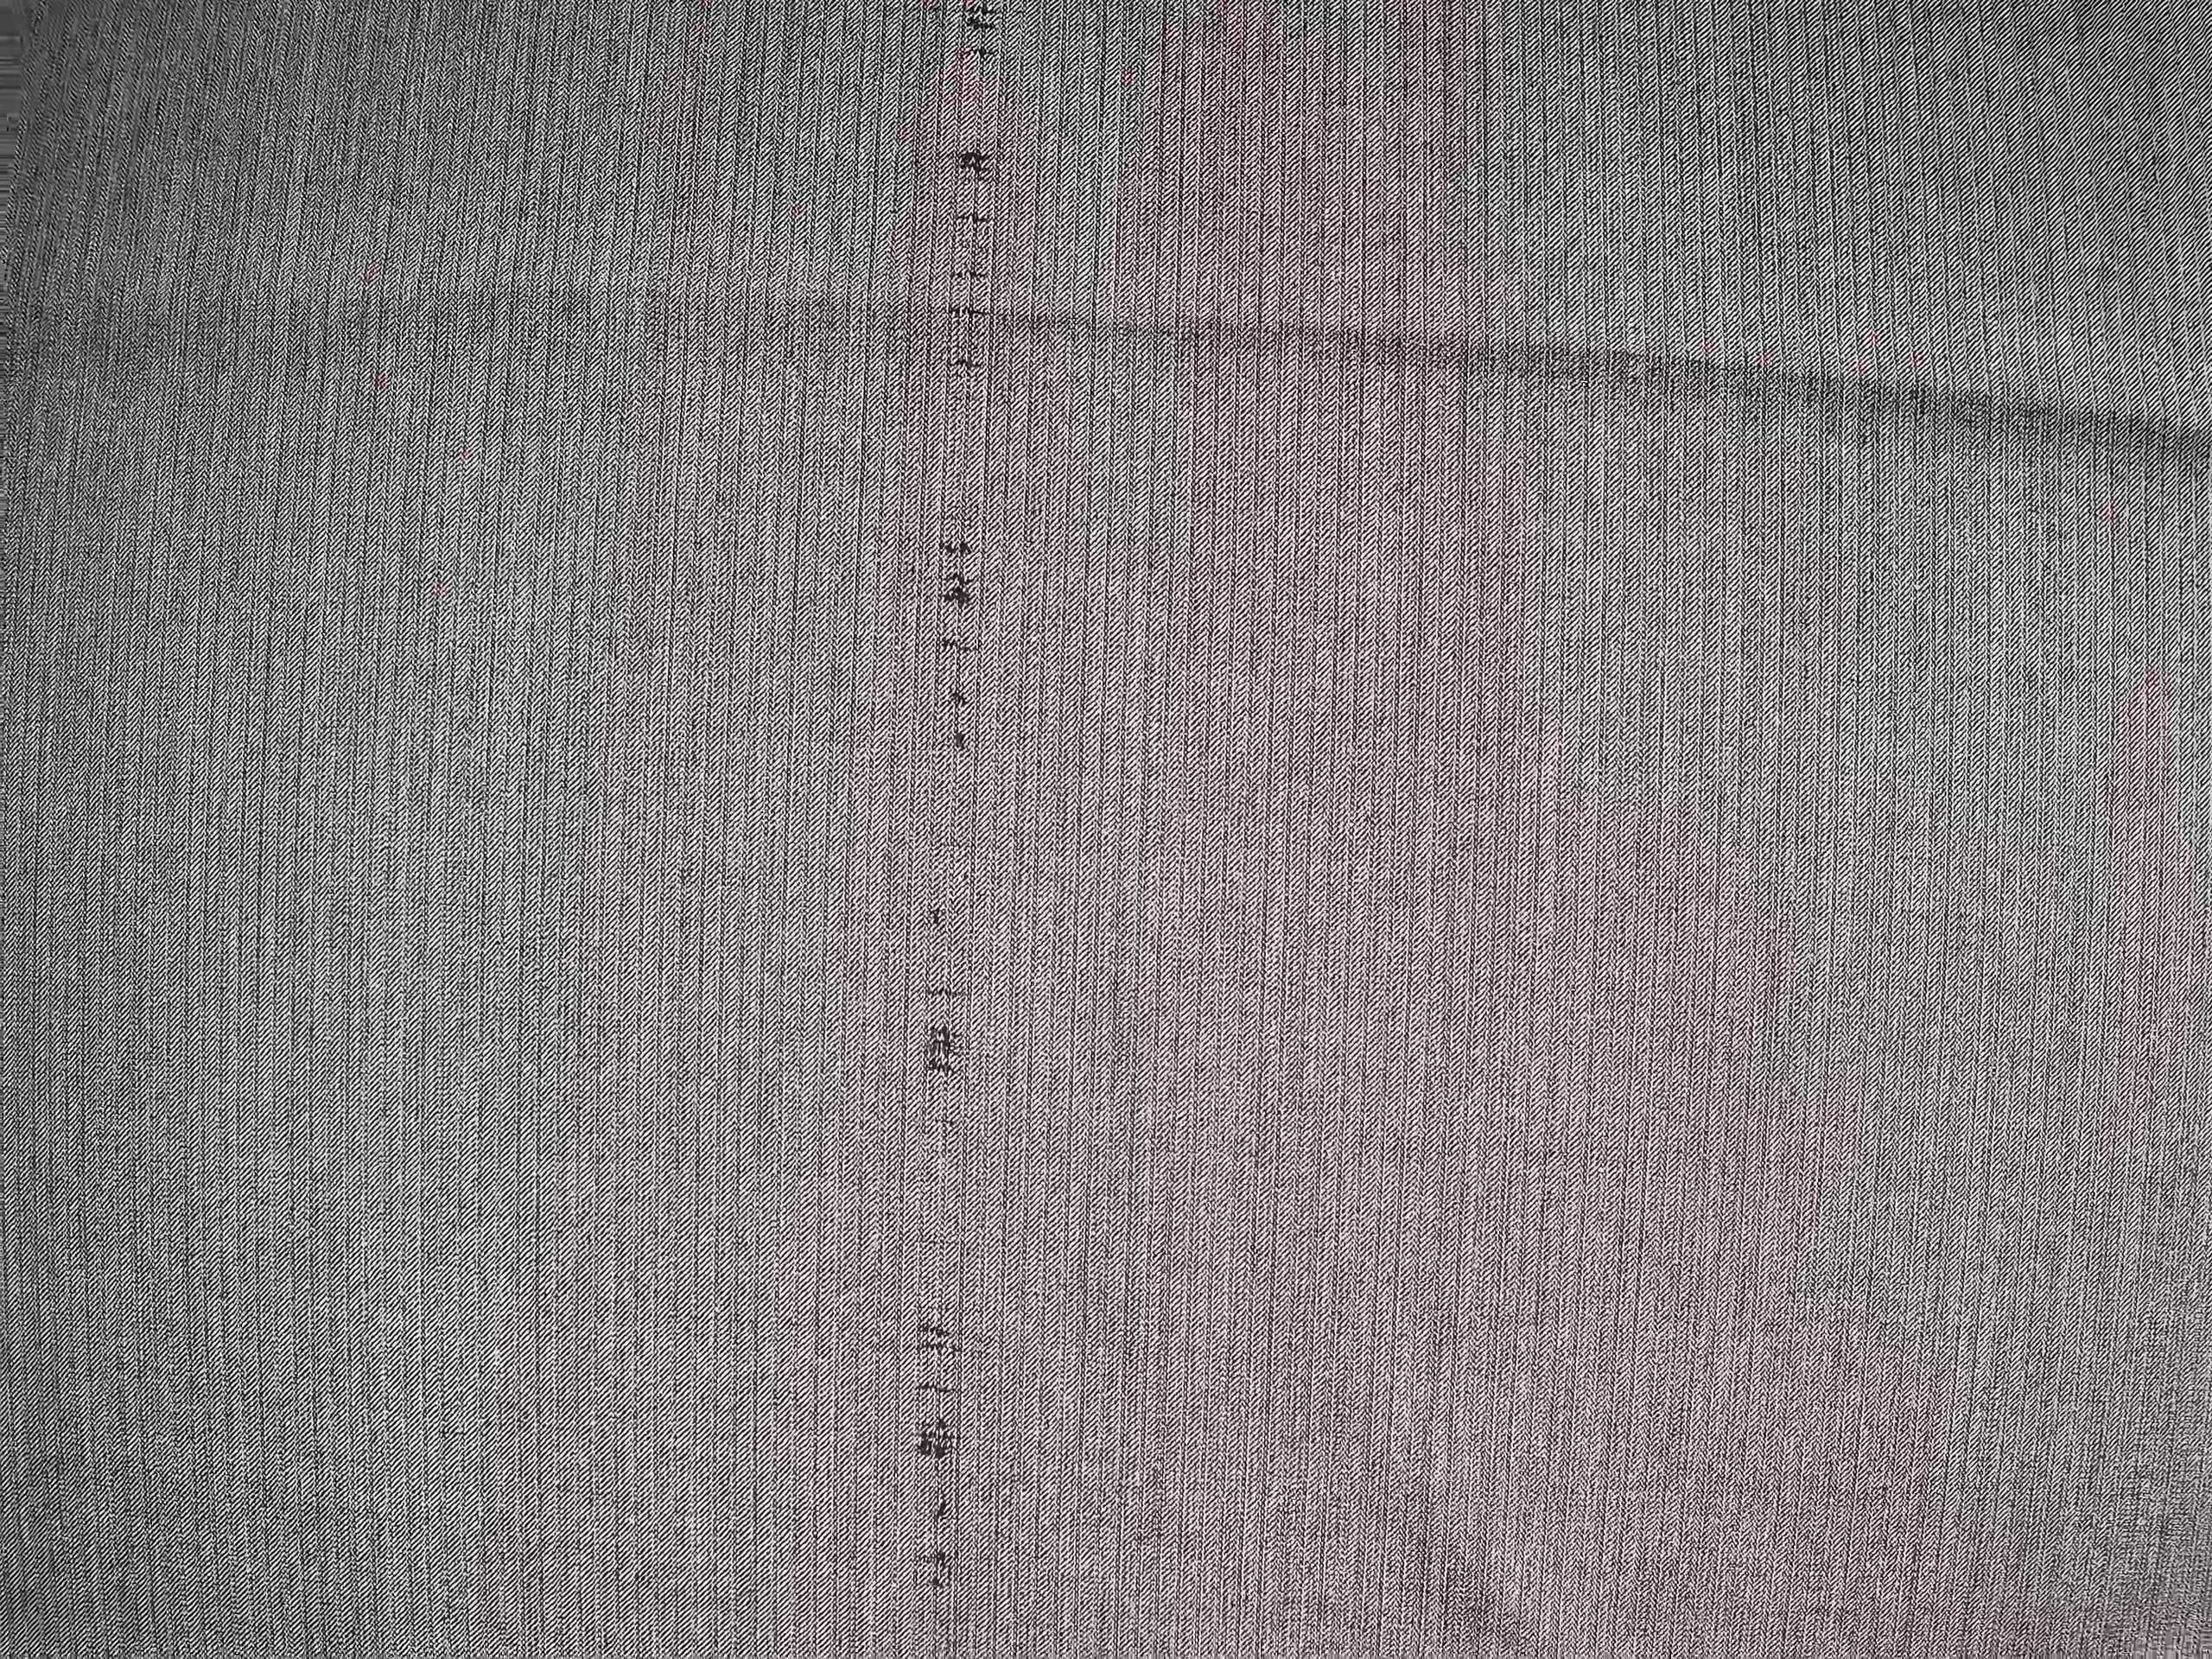jumps: (904, 16, 1022, 1617)
